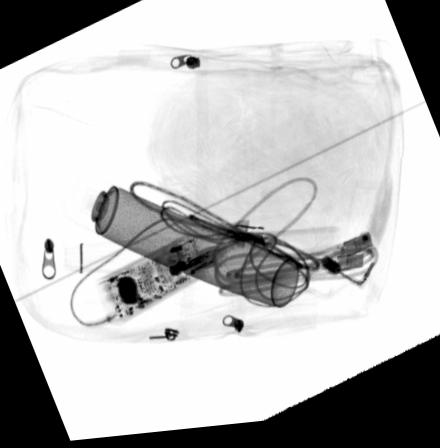Sprayer: (61, 170, 300, 315)
